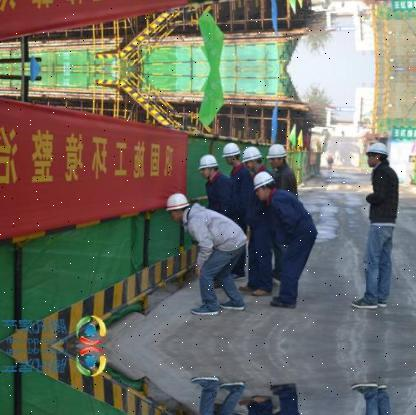helmet: (164, 191, 189, 220), (366, 138, 390, 166), (254, 171, 276, 199), (197, 154, 220, 180), (267, 142, 291, 166), (223, 140, 243, 164), (242, 146, 262, 170)
